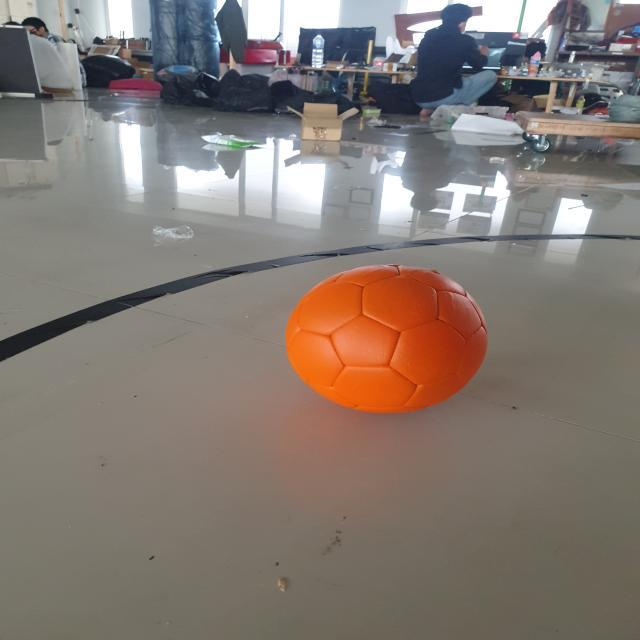bola: (276, 255, 489, 418)
